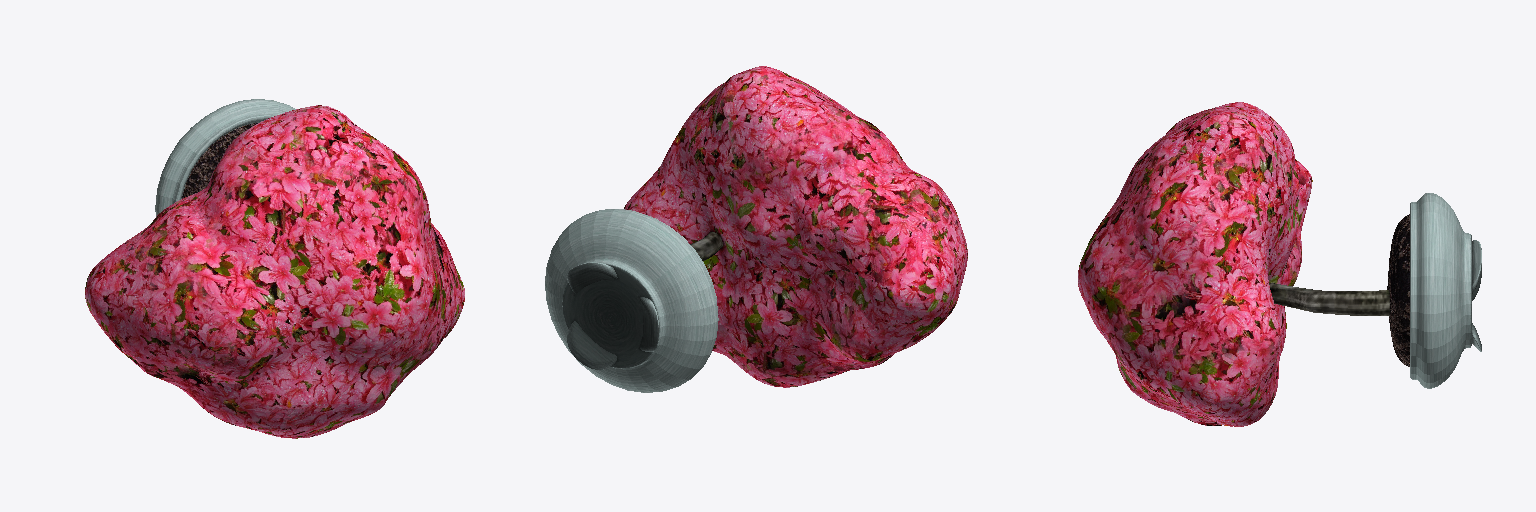
The picture shows the model from 3 angles: view 1: azimuth 30°, elevation 25°; view 2: azimuth 150°, elevation 25°; view 3: azimuth 270°, elevation 25°; orthographic projection.
Visible parts, largest first — view 1: 10433_Azalea_Bush_v1; view 2: 10433_Azalea_Bush_v1; view 3: 10433_Azalea_Bush_v1.
Boxes of the visible parts, box(x1,y1,x2,y2) form: 10433_Azalea_Bush_v1: box(85, 99, 464, 438); 10433_Azalea_Bush_v1: box(545, 66, 967, 392); 10433_Azalea_Bush_v1: box(1078, 102, 1481, 426).
Bounding box in the file's own units: 61.08 × 53.15 × 61.56.
Materials: 1 (1 with a texture image).